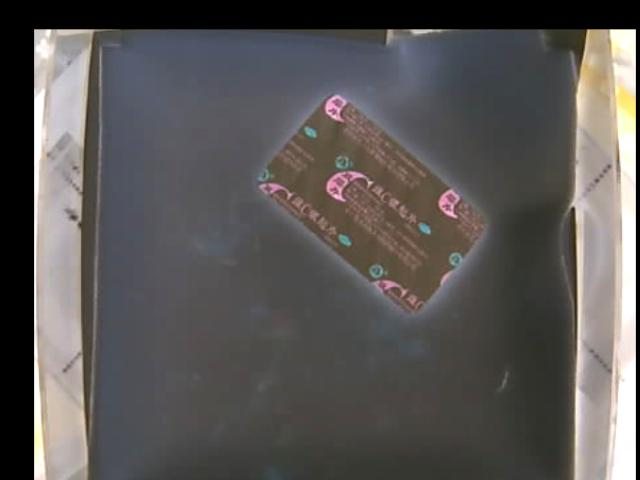Medicine: (263, 94, 489, 314)
